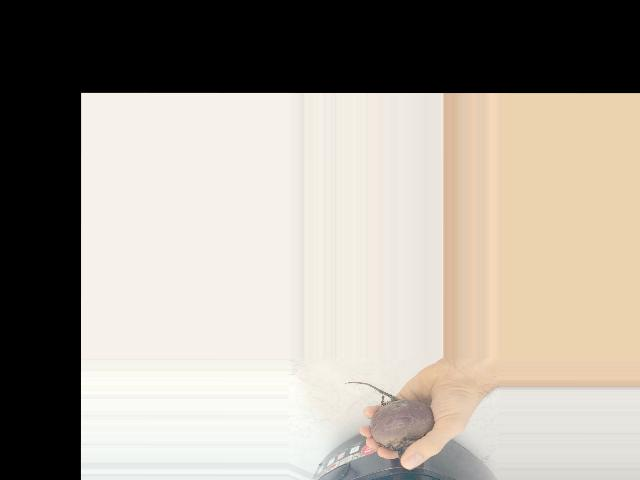beet: (344, 381, 433, 457)
